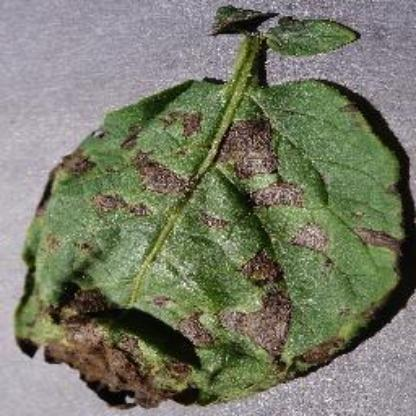Early-Blight: (17, 3, 410, 409)
